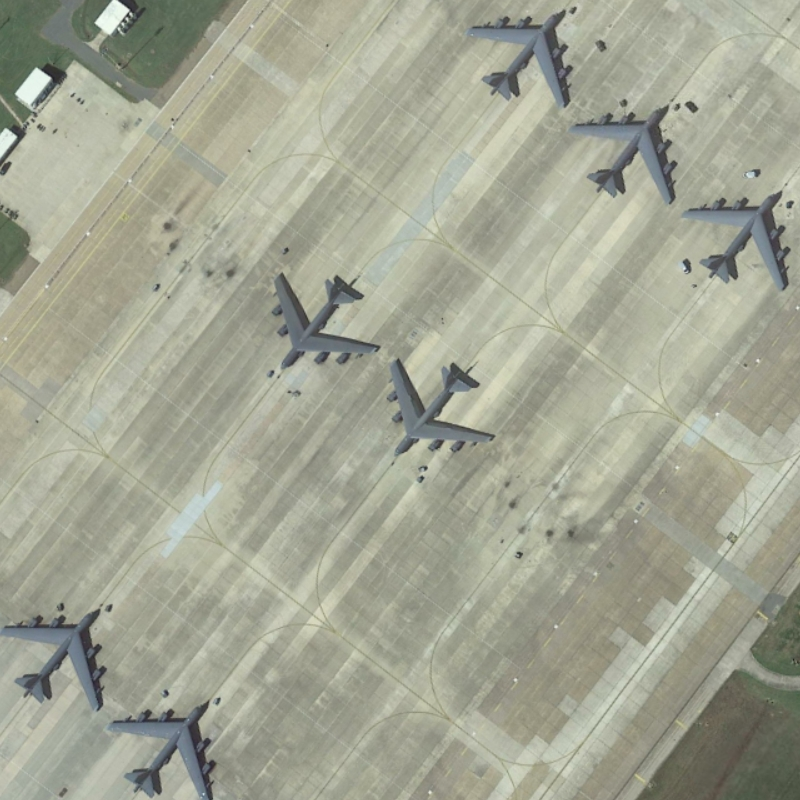A8: (1, 591, 119, 718), (264, 261, 381, 380), (379, 354, 500, 466), (677, 185, 796, 297), (461, 7, 580, 116), (106, 695, 227, 800), (565, 97, 682, 205)
